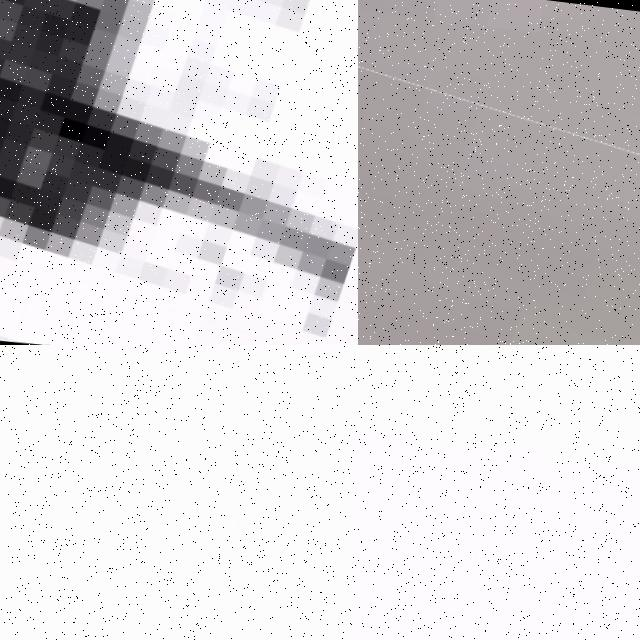drone: (0, 0, 358, 345), (358, 33, 640, 345)
